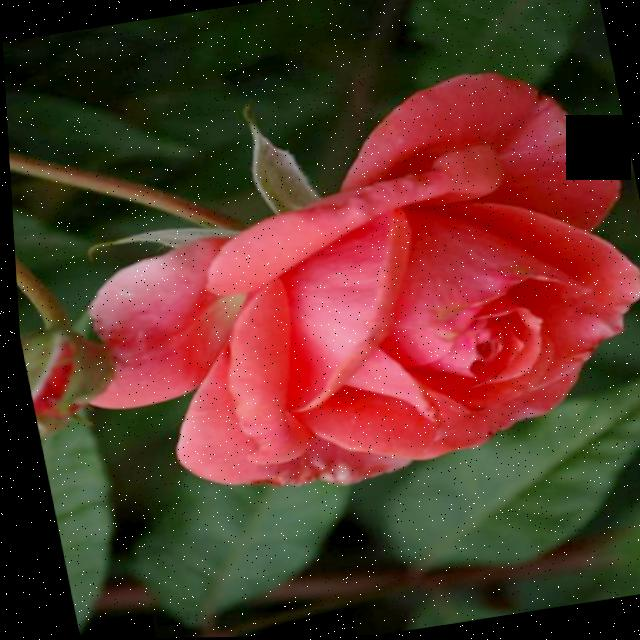rose: (45, 77, 640, 529)
